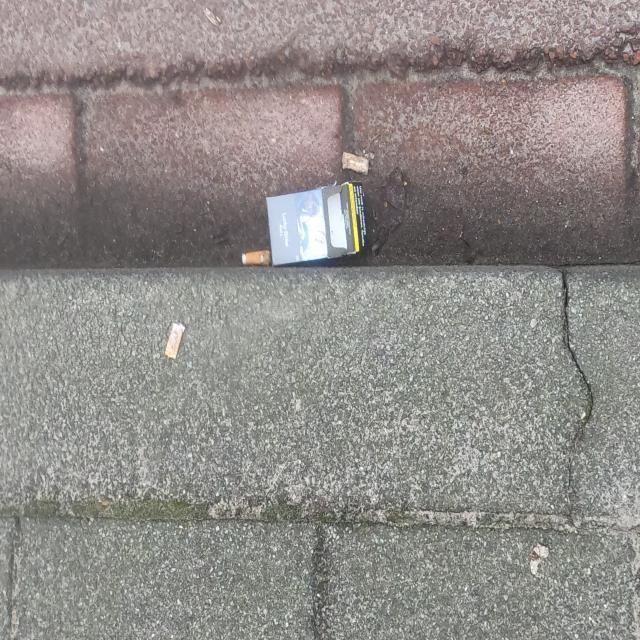Paper: (264, 178, 370, 268)
